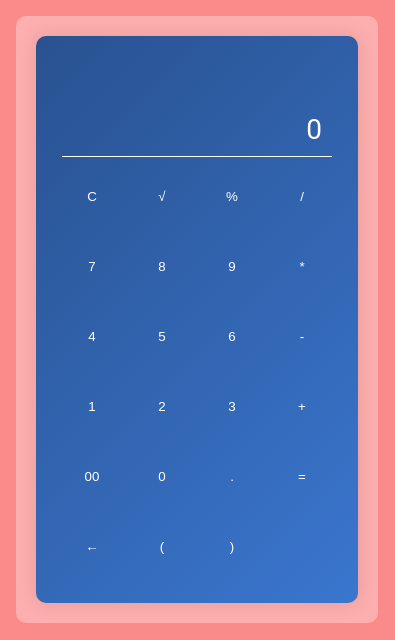
Test: Calculator Component › performs subtraction correctly
Click the button "5".
click(162, 336)  # box [132,306,192,366]
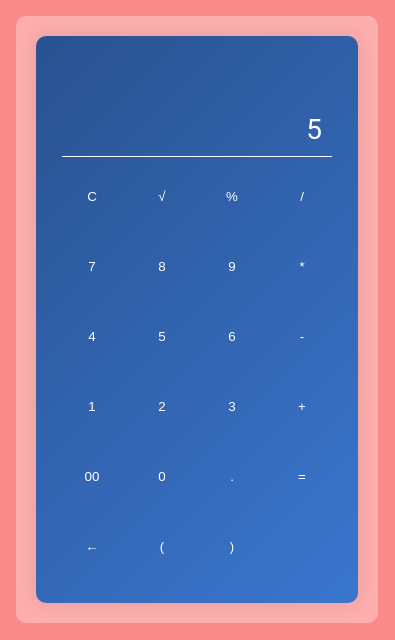
Click the button "-".
click(302, 336)  # box [272,306,332,366]
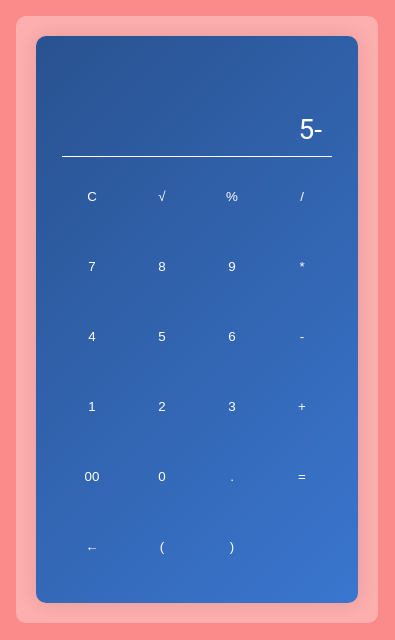
Click the button "2".
click(162, 406)  # box [132,376,192,436]
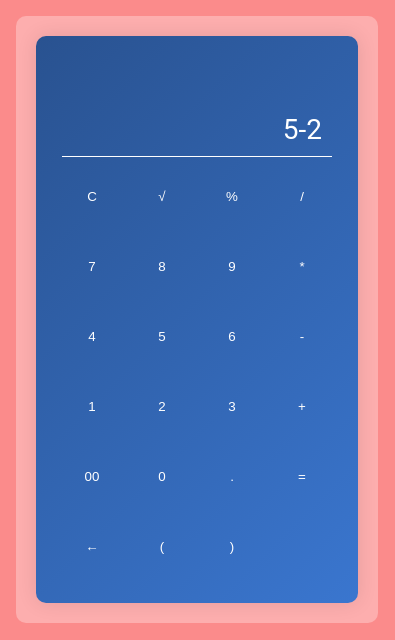
Click the button "=".
click(302, 476)  # box [272,446,332,506]
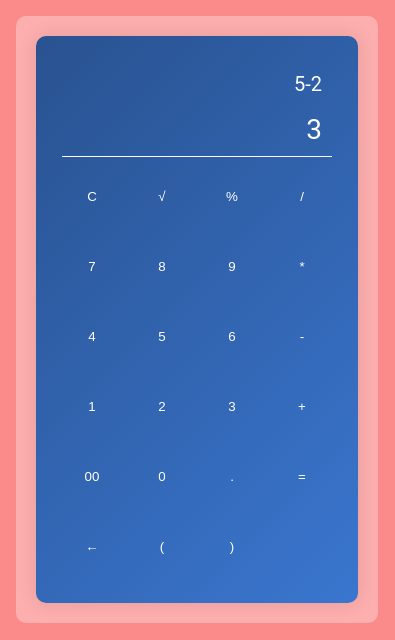
Expected: the text "3" is shown, [306,112,322,146]
